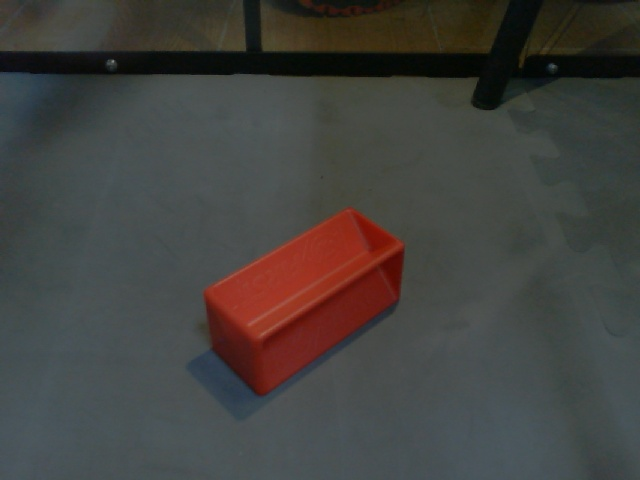RedSample: (202, 206, 406, 397)
